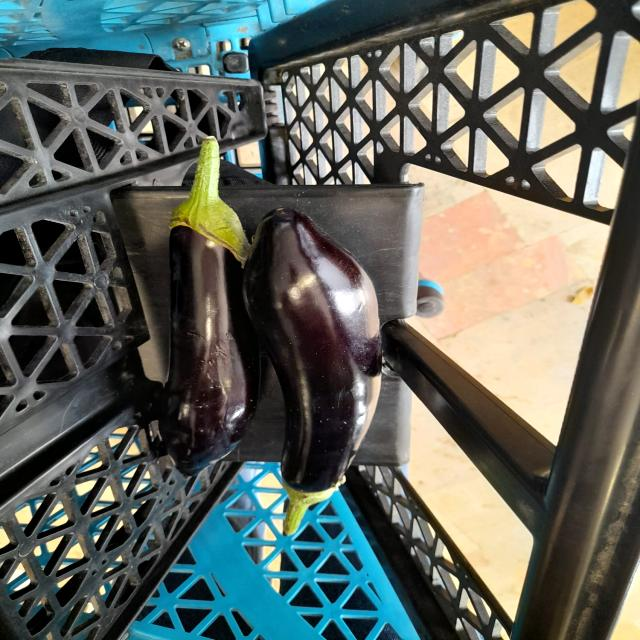eggplant: (234, 200, 386, 534), (154, 128, 268, 476)
